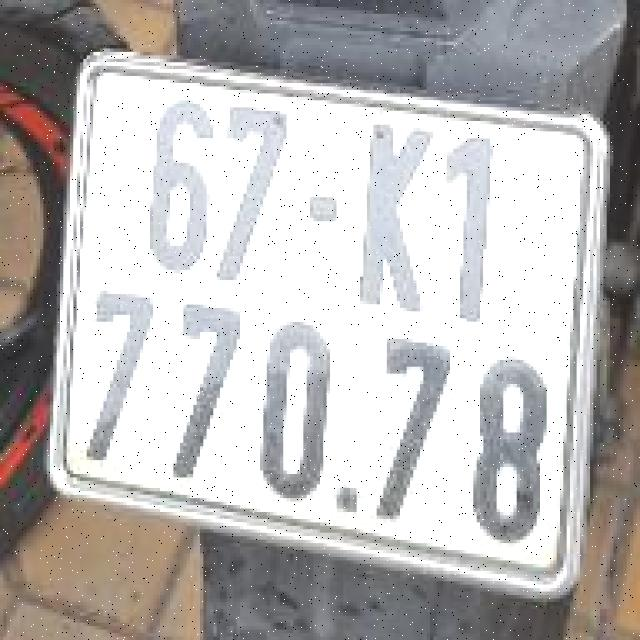0: (255, 313, 342, 517)
1: (438, 123, 508, 337)
6: (138, 90, 218, 277)
7: (212, 92, 298, 296), (372, 327, 455, 531), (76, 277, 156, 484), (168, 289, 242, 489)
8: (465, 346, 558, 547)
K: (350, 105, 437, 324)
